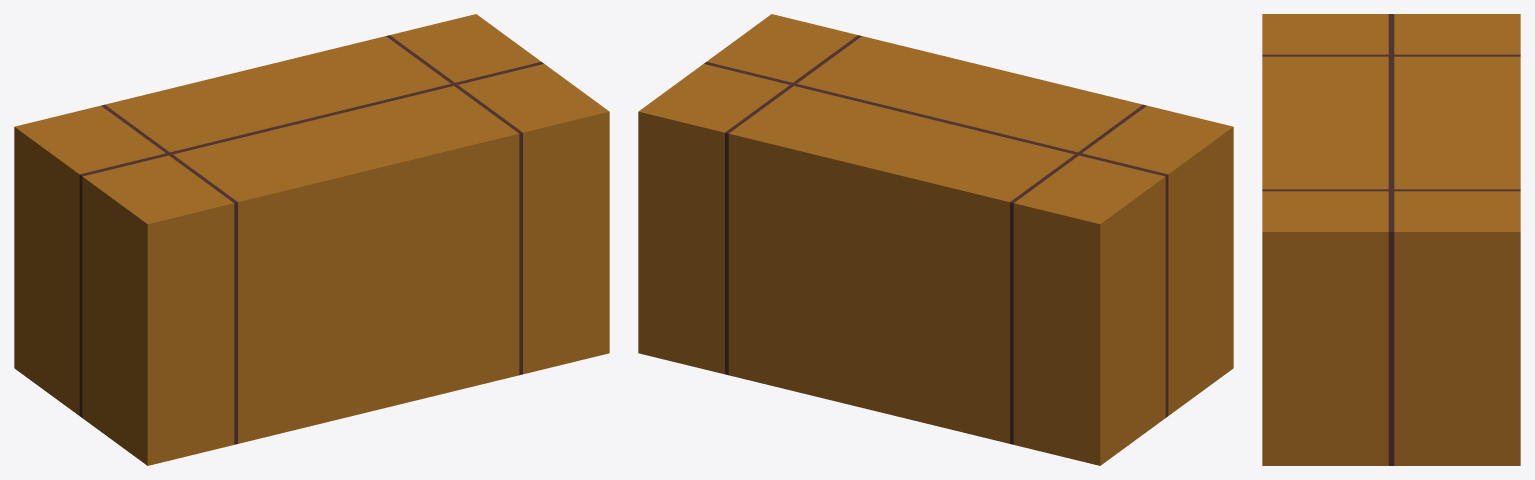
The model's file is Carton.fbx.
3 renders of one model, left to right at view 1: azimuth 30°, elevation 25°; view 2: azimuth 150°, elevation 25°; view 3: azimuth 270°, elevation 25°, orthographic. The views are drawn at different scales.
Parts seen in each view (by area): view 1: Carton; view 2: Carton; view 3: Carton.
Part boxes in pixels (left/top/right/bottom): Carton: left=14, top=14, right=609, bottom=465; Carton: left=638, top=14, right=1233, bottom=465; Carton: left=1262, top=14, right=1520, bottom=465.
Size of the model in its own units: 192 by 96.11 by 96.11.
